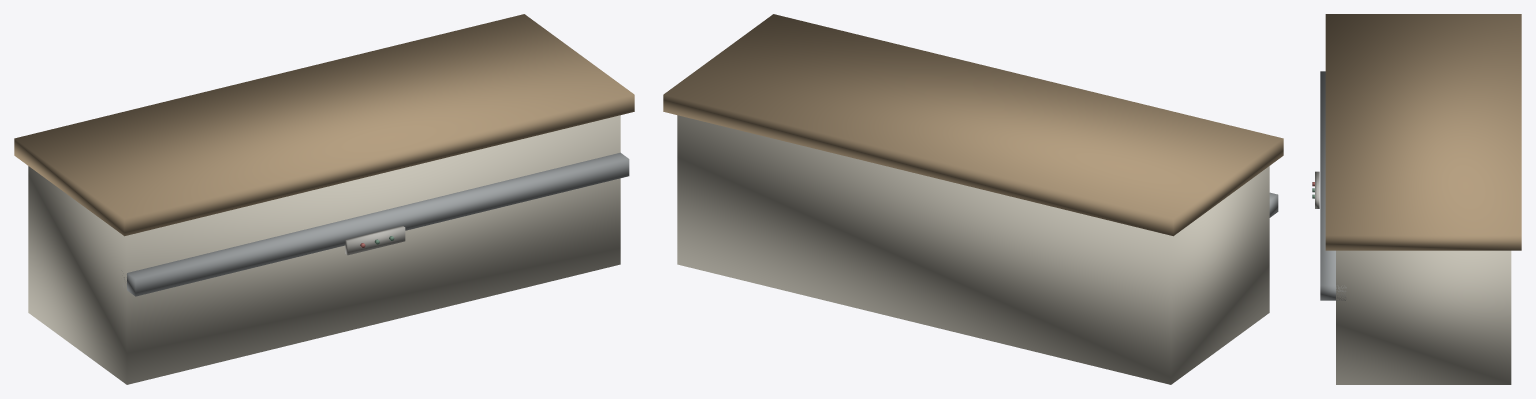
File: diner_counter__deep.glb
3 views of the same model, side by side, from view 1: azimuth 30°, elevation 25°; view 2: azimuth 150°, elevation 25°; view 3: azimuth 270°, elevation 25° (orthographic). The views are drawn at different scales.
Parts seen in each view (by area): view 1: world; view 2: world; view 3: world.
Boxes of the visible parts, bbox=[...] form: world: bbox=[14, 14, 634, 384]; world: bbox=[663, 14, 1283, 384]; world: bbox=[1312, 14, 1521, 384].
Size of the model in its own units: 2.48 by 0.8 by 0.9894.
